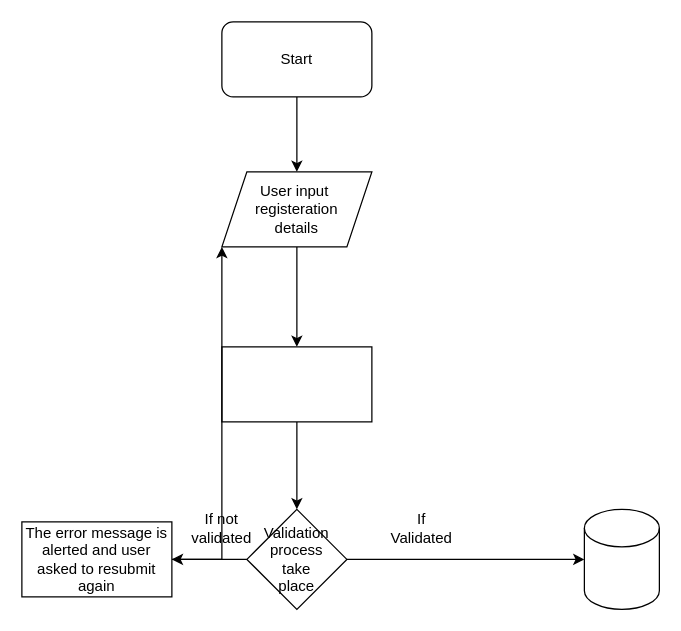
Some shapes in this 681 by 631 pixel diagram are drawn without their labels. Here are the shapes that lost their labels. From the top down, the centre of each, then its label:
At point (296, 384): "Registeration Form is submitted with POST request".
At point (621, 558): "User details are saved".
